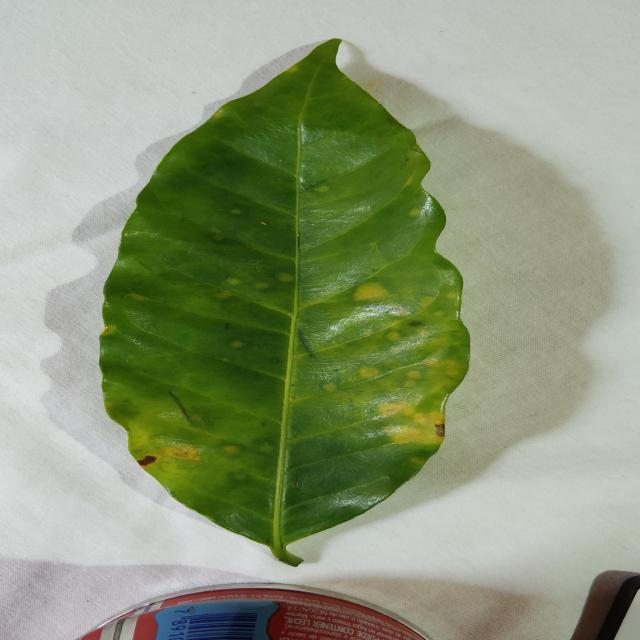Enfermedad-Roya: (96, 39, 471, 566)
